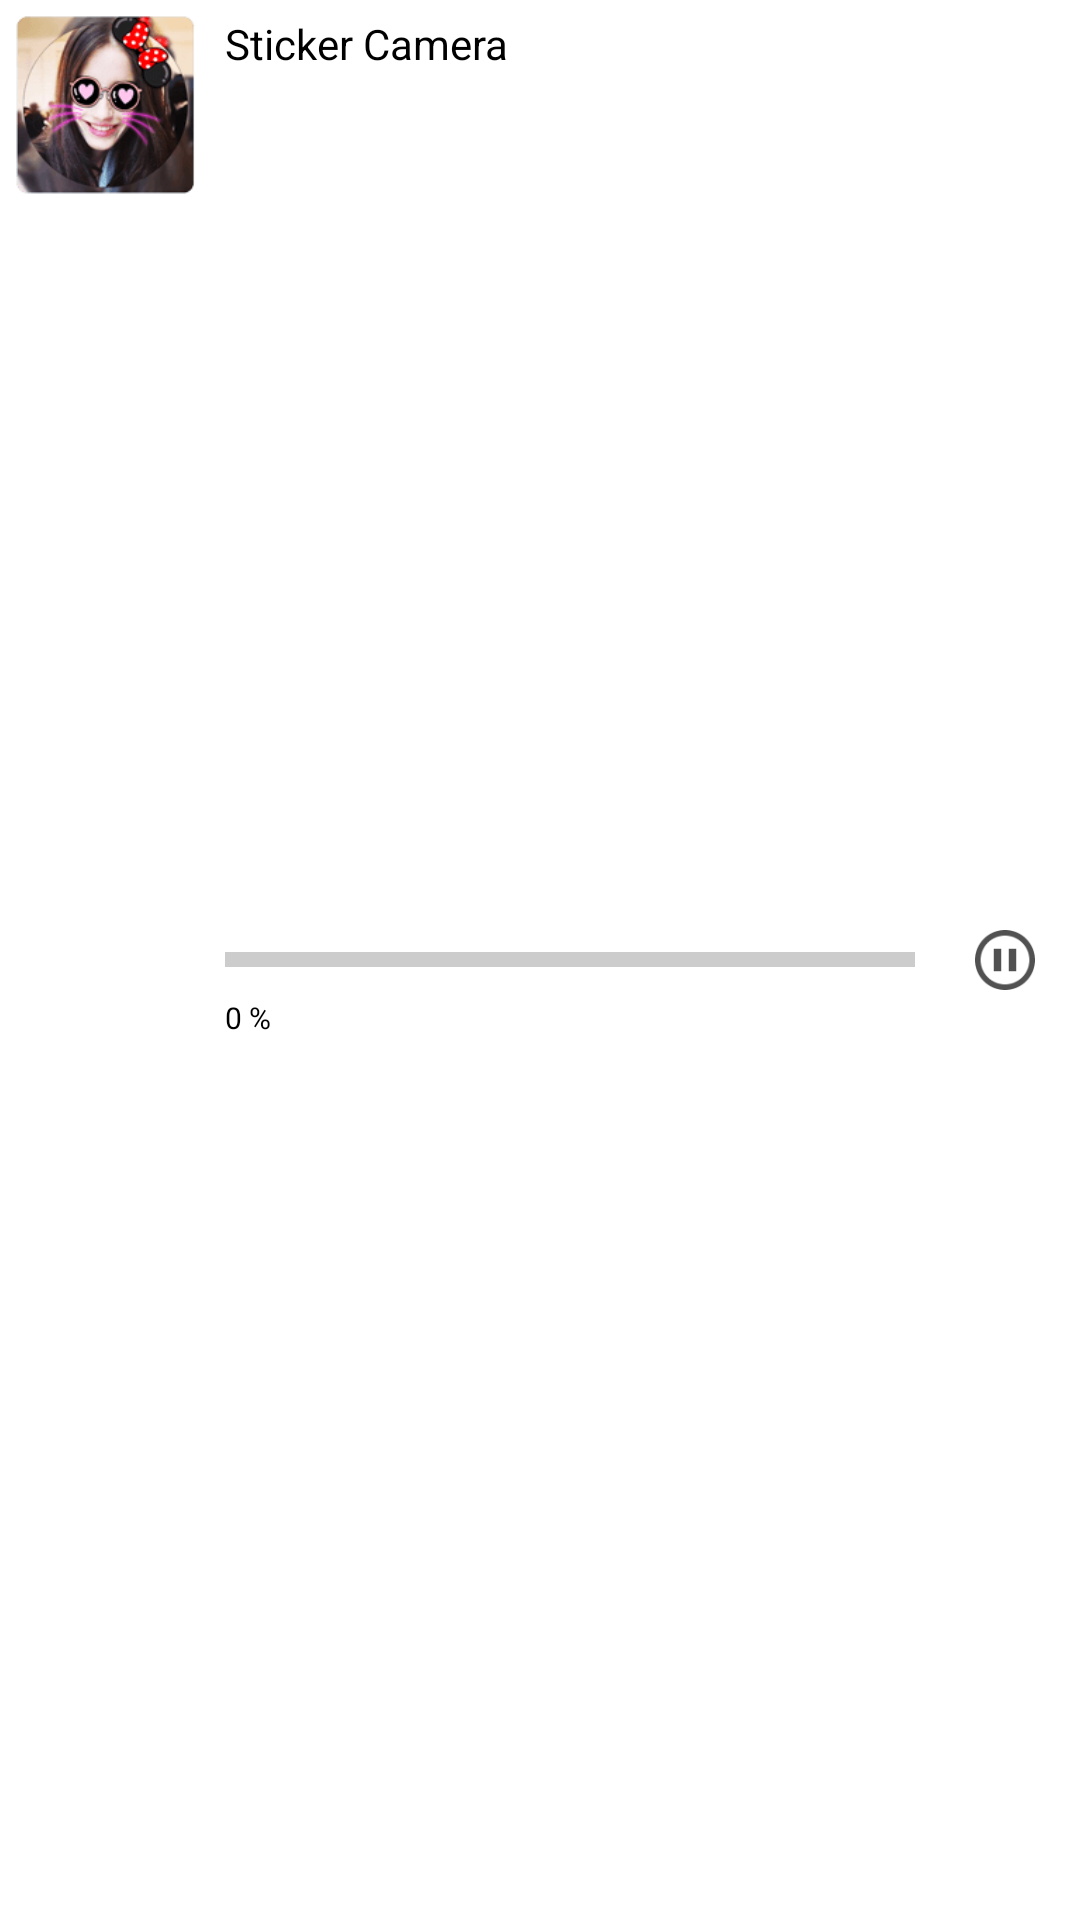

Point at icon controls on the screen. Image size 1080 x 1920, points as (x,y).
pause: (1005,960)
